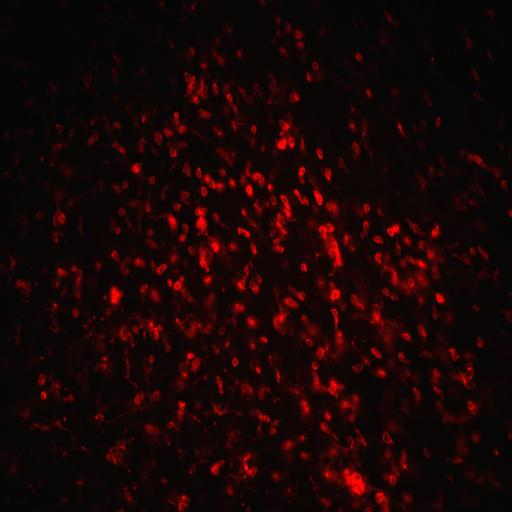microglia: (321, 430, 366, 464), (318, 222, 344, 270), (415, 156, 448, 192), (175, 313, 212, 342), (376, 314, 402, 354), (224, 370, 255, 403), (387, 358, 418, 388), (418, 240, 445, 273), (352, 302, 386, 328), (117, 391, 149, 418), (30, 413, 70, 434), (464, 468, 501, 490), (307, 477, 330, 512), (129, 198, 152, 232), (446, 434, 471, 465), (398, 1, 432, 22), (267, 73, 288, 107), (409, 272, 430, 306), (124, 105, 156, 127), (44, 298, 64, 333), (255, 409, 279, 437), (42, 181, 66, 208), (317, 276, 340, 304), (235, 259, 254, 292), (340, 392, 360, 422), (173, 277, 196, 303), (238, 82, 262, 106), (378, 410, 404, 432), (189, 444, 208, 474), (170, 362, 189, 392), (2, 252, 22, 280), (361, 122, 374, 165), (318, 462, 342, 485), (107, 442, 129, 467), (301, 314, 323, 339), (240, 452, 258, 482), (52, 129, 75, 152), (223, 81, 239, 114), (240, 206, 260, 232), (377, 387, 397, 413), (47, 371, 62, 404), (344, 471, 364, 495), (116, 324, 136, 348), (334, 330, 348, 364), (224, 425, 242, 451), (270, 355, 286, 384), (272, 214, 286, 246), (441, 412, 473, 426), (167, 490, 189, 510), (209, 338, 231, 358), (382, 263, 400, 287), (449, 192, 470, 212), (396, 395, 412, 421), (258, 384, 281, 402), (431, 306, 454, 324), (70, 265, 82, 299), (204, 173, 224, 193), (406, 217, 426, 237), (327, 376, 345, 398), (202, 292, 216, 320), (82, 312, 96, 340), (212, 211, 230, 232), (240, 160, 254, 187), (309, 371, 326, 393), (144, 424, 161, 446), (139, 462, 155, 485), (283, 481, 298, 505), (15, 279, 31, 300), (351, 496, 372, 512), (400, 256, 427, 268), (217, 148, 235, 166), (325, 200, 342, 219), (154, 184, 171, 203), (229, 115, 246, 134), (340, 232, 356, 252), (184, 71, 197, 95), (198, 250, 212, 272), (460, 364, 474, 386), (178, 46, 195, 64), (491, 320, 510, 336), (60, 162, 76, 181), (273, 314, 288, 334), (95, 333, 109, 354), (396, 494, 412, 512), (249, 274, 262, 296), (248, 242, 258, 270), (148, 320, 162, 340), (167, 245, 180, 266), (172, 118, 188, 135), (485, 163, 501, 180), (197, 78, 209, 100), (198, 54, 210, 76), (186, 412, 202, 428), (210, 460, 225, 477), (311, 61, 323, 82), (212, 49, 226, 67), (475, 268, 489, 286), (384, 10, 398, 27), (452, 252, 470, 265), (337, 158, 350, 176), (351, 294, 365, 310), (252, 172, 266, 188), (110, 286, 122, 304), (202, 274, 217, 288), (419, 349, 435, 362), (225, 481, 237, 498), (121, 256, 131, 276), (359, 220, 370, 238), (53, 211, 66, 226), (207, 236, 219, 252), (295, 190, 307, 206), (138, 285, 148, 304), (299, 135, 307, 158), (387, 223, 400, 237), (211, 402, 224, 416), (112, 142, 126, 155), (144, 238, 158, 251), (51, 230, 64, 244), (228, 240, 241, 254), (331, 308, 339, 330), (134, 137, 145, 153), (400, 448, 408, 470), (281, 195, 291, 212), (280, 440, 294, 452), (246, 136, 258, 150), (196, 216, 207, 231), (213, 124, 224, 139), (82, 74, 93, 89), (198, 109, 212, 120), (432, 385, 443, 399), (150, 288, 161, 302), (477, 246, 488, 260), (375, 491, 386, 504), (190, 358, 200, 372), (313, 190, 323, 204), (279, 119, 290, 131), (272, 472, 285, 482), (448, 348, 458, 361), (382, 430, 392, 443), (299, 399, 309, 412), (389, 88, 402, 98), (352, 142, 360, 158), (216, 376, 223, 394), (111, 184, 122, 195), (289, 92, 299, 104), (352, 362, 364, 372), (238, 228, 250, 238), (431, 226, 441, 238), (168, 215, 176, 230), (501, 310, 511, 322), (196, 206, 206, 218), (276, 138, 286, 150), (124, 357, 130, 377), (248, 338, 257, 351), (284, 298, 297, 307), (37, 373, 46, 386), (233, 303, 244, 313), (370, 348, 381, 358), (398, 352, 409, 362), (318, 225, 327, 237), (472, 91, 481, 103), (472, 69, 480, 82), (190, 95, 200, 105), (300, 451, 310, 461), (319, 422, 329, 432), (156, 264, 166, 274), (330, 290, 340, 300), (131, 162, 141, 172), (88, 135, 98, 145), (305, 72, 314, 83), (180, 191, 189, 202), (56, 124, 65, 135), (57, 267, 68, 276), (134, 259, 145, 268), (94, 260, 103, 271), (188, 245, 196, 257), (316, 148, 324, 160), (182, 163, 190, 175), (111, 250, 119, 262), (418, 324, 426, 336), (476, 335, 484, 347), (154, 133, 162, 145), (124, 488, 132, 500), (270, 194, 278, 206), (435, 293, 444, 303), (280, 48, 289, 58), (374, 252, 382, 263), (316, 348, 324, 359), (433, 368, 441, 379), (228, 178, 236, 189), (212, 83, 219, 95), (500, 180, 507, 192), (413, 388, 420, 400), (389, 474, 396, 486), (464, 38, 472, 48), (376, 369, 386, 377), (296, 41, 304, 51), (324, 169, 330, 181), (294, 30, 302, 39), (173, 281, 181, 290), (474, 155, 482, 164), (152, 390, 160, 399), (373, 236, 382, 244), (285, 22, 291, 34), (40, 390, 47, 400), (113, 68, 118, 82), (435, 117, 441, 128), (246, 185, 252, 196), (236, 49, 242, 60), (356, 54, 364, 62), (118, 208, 126, 216), (297, 292, 305, 300), (346, 436, 354, 444), (311, 361, 319, 369), (466, 402, 474, 410), (402, 332, 410, 340), (164, 129, 172, 137), (348, 122, 356, 130), (178, 401, 186, 409), (486, 10, 494, 18), (98, 363, 106, 371), (113, 121, 121, 129), (248, 318, 256, 326), (298, 167, 305, 176), (423, 448, 430, 457), (170, 148, 176, 158), (182, 223, 188, 233), (196, 168, 202, 178), (288, 137, 294, 147), (72, 308, 78, 318), (218, 326, 225, 334), (382, 288, 389, 296), (471, 305, 479, 312), (436, 402, 443, 410), (95, 414, 103, 421), (149, 176, 155, 185), (366, 89, 372, 98), (201, 187, 207, 196), (363, 204, 369, 213), (408, 278, 414, 287), (177, 411, 183, 420), (312, 62, 318, 70), (300, 263, 306, 271), (174, 204, 180, 212), (306, 338, 312, 346), (133, 326, 139, 334), (232, 358, 238, 366), (147, 228, 153, 236), (469, 248, 475, 256), (466, 362, 472, 370), (19, 410, 25, 418), (251, 125, 256, 134), (397, 122, 402, 131), (115, 227, 121, 234), (122, 181, 128, 188), (277, 246, 283, 253), (167, 422, 174, 428), (384, 451, 390, 458), (68, 394, 74, 401), (187, 353, 194, 359), (493, 448, 498, 456), (135, 395, 140, 403), (325, 414, 331, 420), (148, 356, 154, 362), (174, 112, 179, 119), (255, 367, 260, 373), (398, 190, 403, 196), (53, 302, 57, 308), (431, 56, 434, 62), (64, 416, 66, 421)
